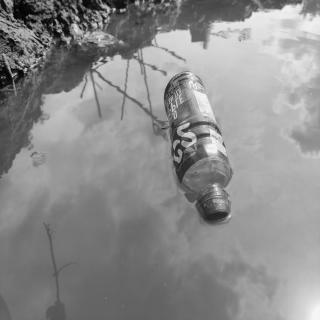bottle: (162, 67, 236, 228)
